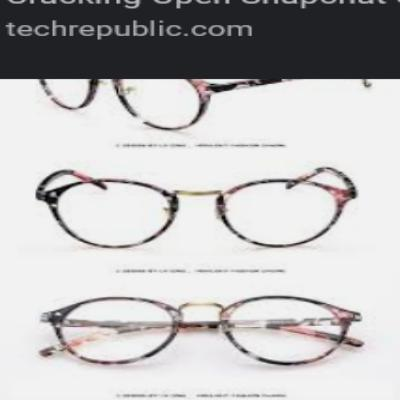glasses: (34, 159, 365, 265), (29, 289, 367, 374), (36, 77, 400, 136)
